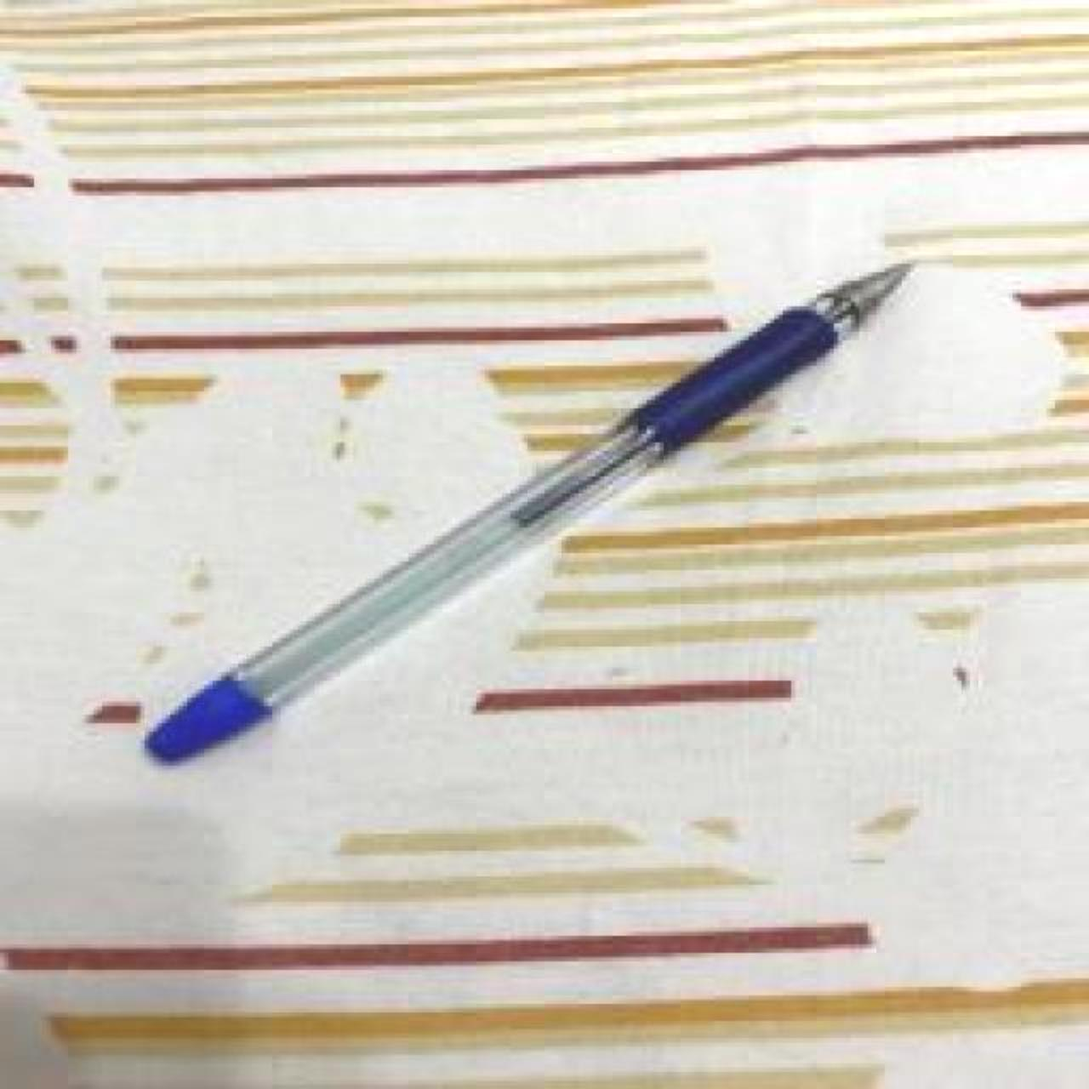pen: (150, 260, 921, 771)
